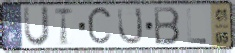B: (153, 6, 182, 47)
C: (86, 5, 114, 49)
L: (186, 7, 208, 45)
T: (53, 7, 75, 48)
U: (22, 6, 51, 49), (117, 6, 145, 47)
